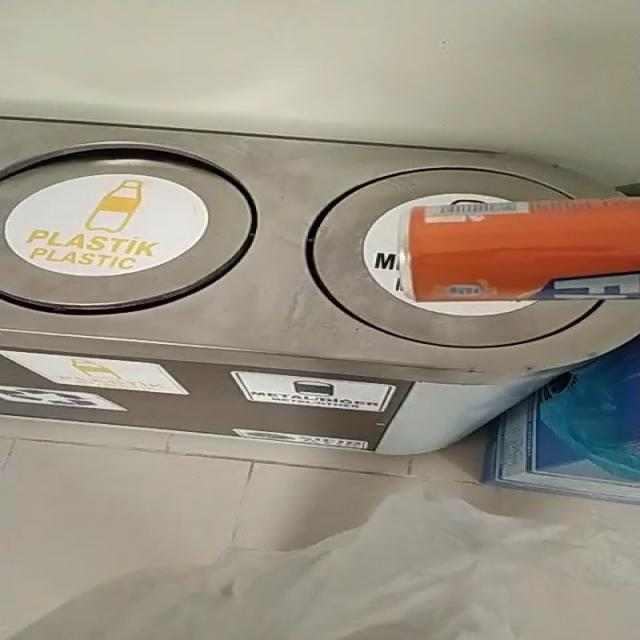bin: (0, 118, 640, 456)
metal: (408, 199, 640, 300)
